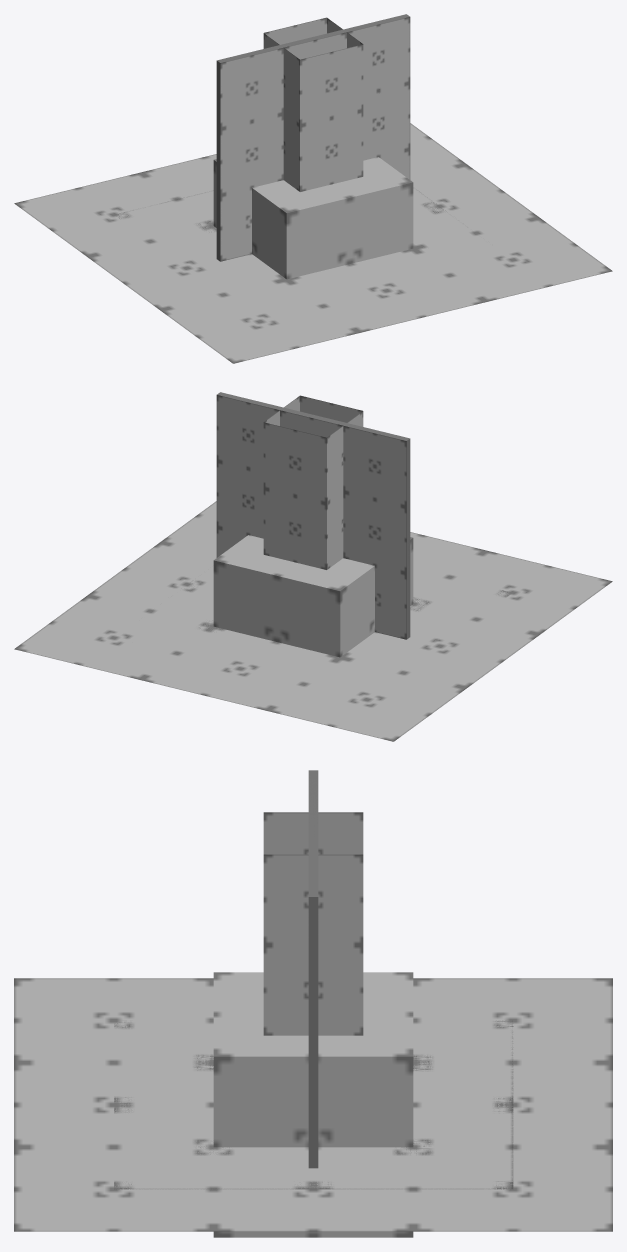
The model's file is BNG_E_Gray.fbx.
3 views of the same model, one above another, from view 1: azimuth 30°, elevation 25°; view 2: azimuth 150°, elevation 25°; view 3: azimuth 270°, elevation 25° (orthographic). The views are drawn at different scales.
Parts seen in each view (by area): view 1: BNG_E_Floor_3x3, BNG_E_Cube_1x, BNG_E_Pillar, BNG_E_Windowrame_One_Gray, BNG_E_Windowrame_Double_Gray, BNG_E_DoorFrame_One_Gray, BNG_E_DoorFrame_Double_Gray, BNG_E_Floor_2x2, BNG_E_Wall_Full_Gray; view 2: BNG_E_Floor_3x3, BNG_E_DoorFrame_One_Gray, BNG_E_Cube_1x, BNG_E_Pillar, BNG_E_Floor_2x2, BNG_E_DoorFrame_Double_Gray, BNG_E_Wall_Full_Gray; view 3: BNG_E_Floor_3x3, BNG_E_Floor_2x2, BNG_E_Cube_1x, BNG_E_Pillar, BNG_E_DoorFrame_One_Gray, BNG_E_Wall_Full_Gray.
Boxes of the visible parts, x1,y1,x2,y2 form: BNG_E_Floor_3x3: [14, 123, 612, 363]; BNG_E_Cube_1x: [213, 157, 413, 279]; BNG_E_Pillar: [263, 17, 363, 191]; BNG_E_Windowrame_One_Gray: [220, 18, 410, 261]; BNG_E_Windowrame_Double_Gray: [217, 18, 410, 261]; BNG_E_DoorFrame_One_Gray: [216, 14, 410, 222]; BNG_E_DoorFrame_Double_Gray: [216, 19, 409, 261]; BNG_E_Floor_2x2: [115, 187, 484, 251]; BNG_E_Wall_Full_Gray: [217, 15, 408, 62]; BNG_E_Floor_3x3: [14, 501, 612, 741]; BNG_E_DoorFrame_One_Gray: [217, 392, 409, 639]; BNG_E_Cube_1x: [213, 535, 413, 657]; BNG_E_Pillar: [263, 395, 363, 569]; BNG_E_Floor_2x2: [147, 569, 512, 632]; BNG_E_DoorFrame_Double_Gray: [216, 395, 409, 639]; BNG_E_Wall_Full_Gray: [218, 392, 410, 638]; BNG_E_Floor_3x3: [14, 978, 612, 1231]; BNG_E_Floor_2x2: [114, 1020, 513, 1189]; BNG_E_Cube_1x: [213, 972, 413, 1237]; BNG_E_Pillar: [263, 812, 363, 1035]; BNG_E_DoorFrame_One_Gray: [308, 770, 318, 1168]; BNG_E_Wall_Full_Gray: [308, 770, 318, 1168].
Bounding box in the file's own units: 600 × 400 × 600.
